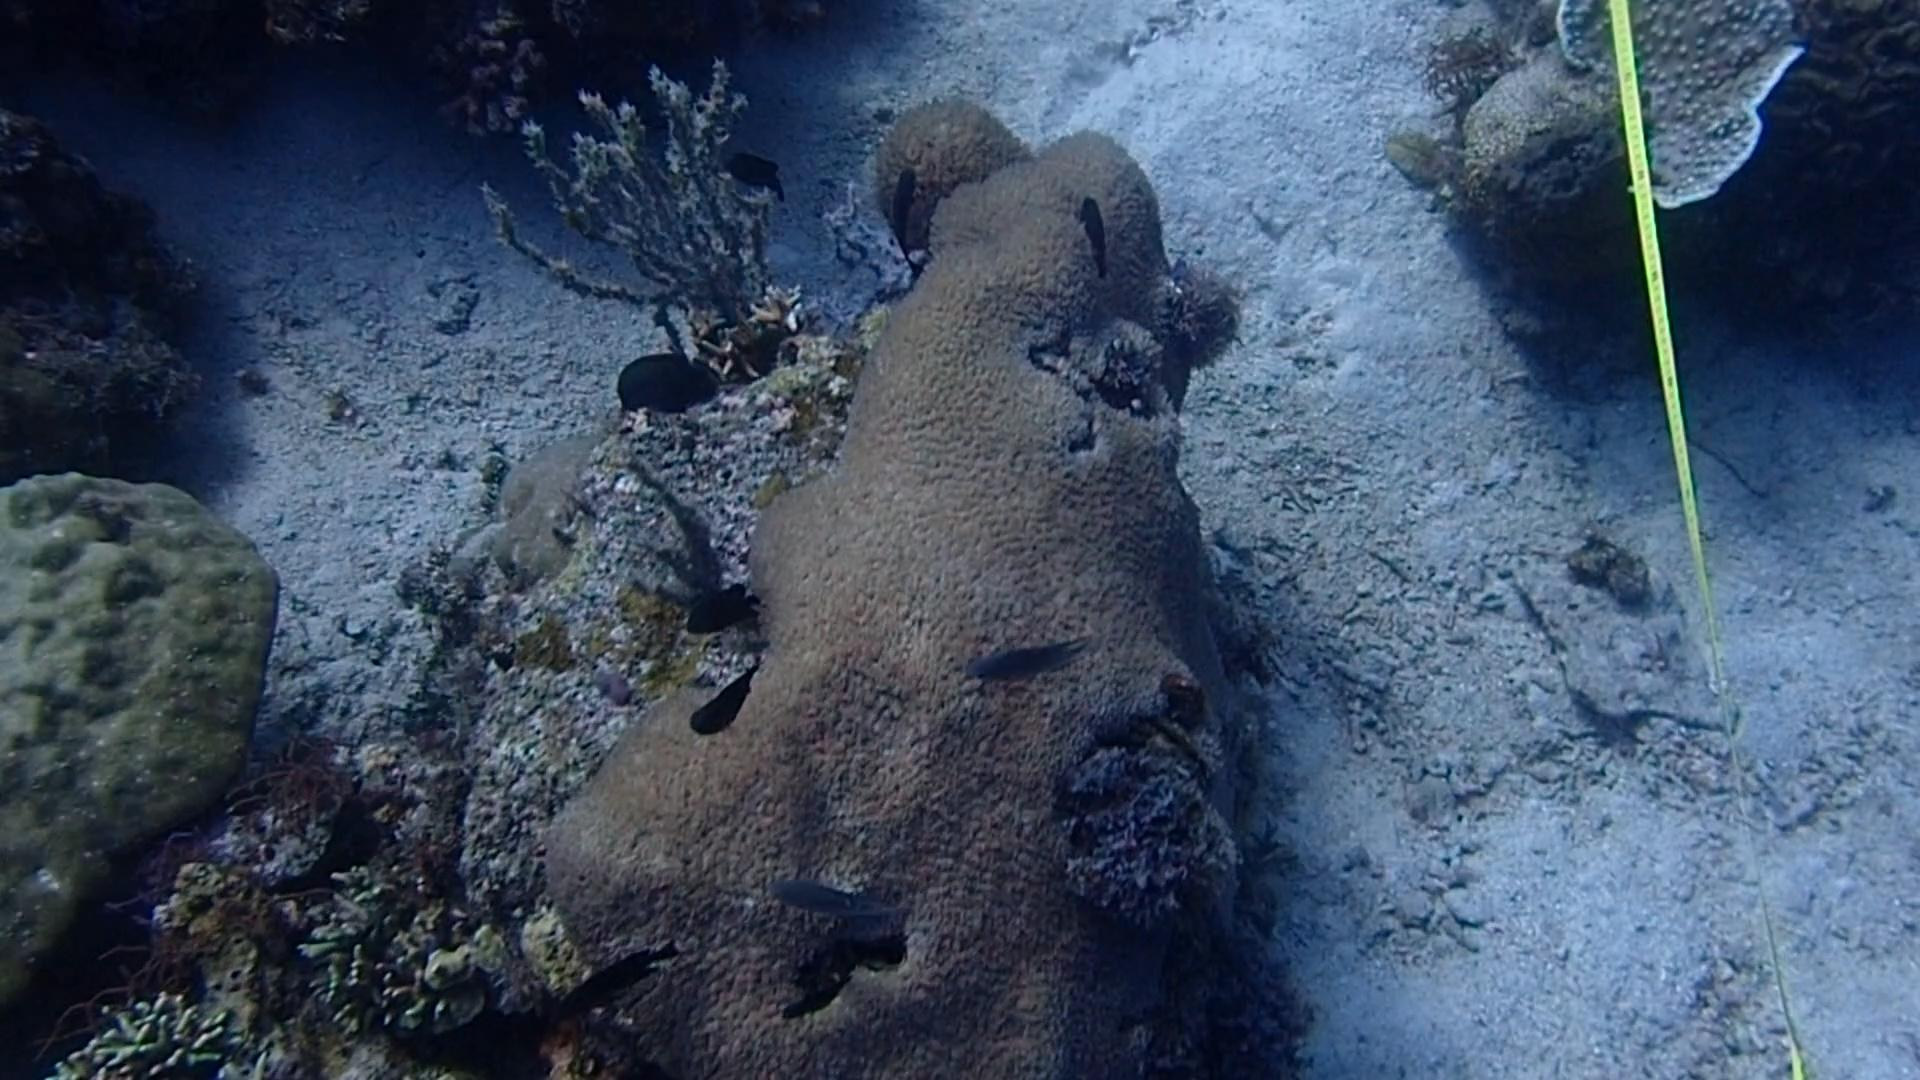Dark Fish: (535, 935, 670, 1029), (680, 658, 779, 741), (670, 570, 770, 644), (874, 145, 942, 251), (720, 135, 796, 219), (1065, 181, 1120, 281)
Light Fish: (760, 862, 915, 948), (971, 625, 1095, 700)
